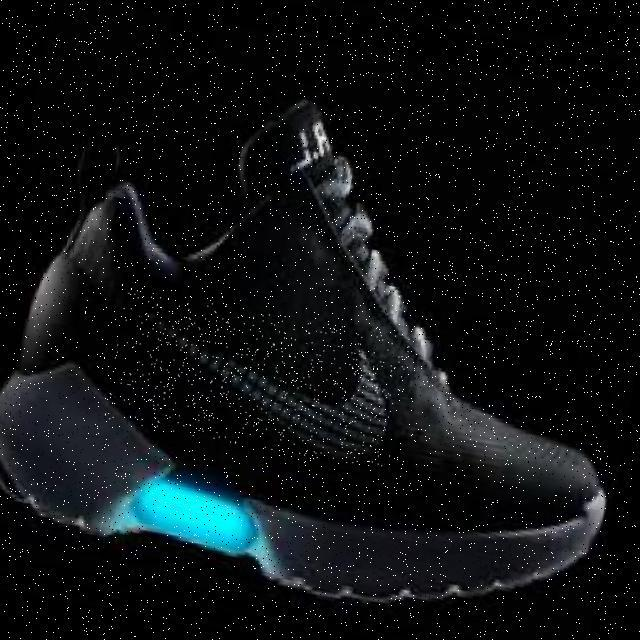Nike: (104, 288, 412, 470)
